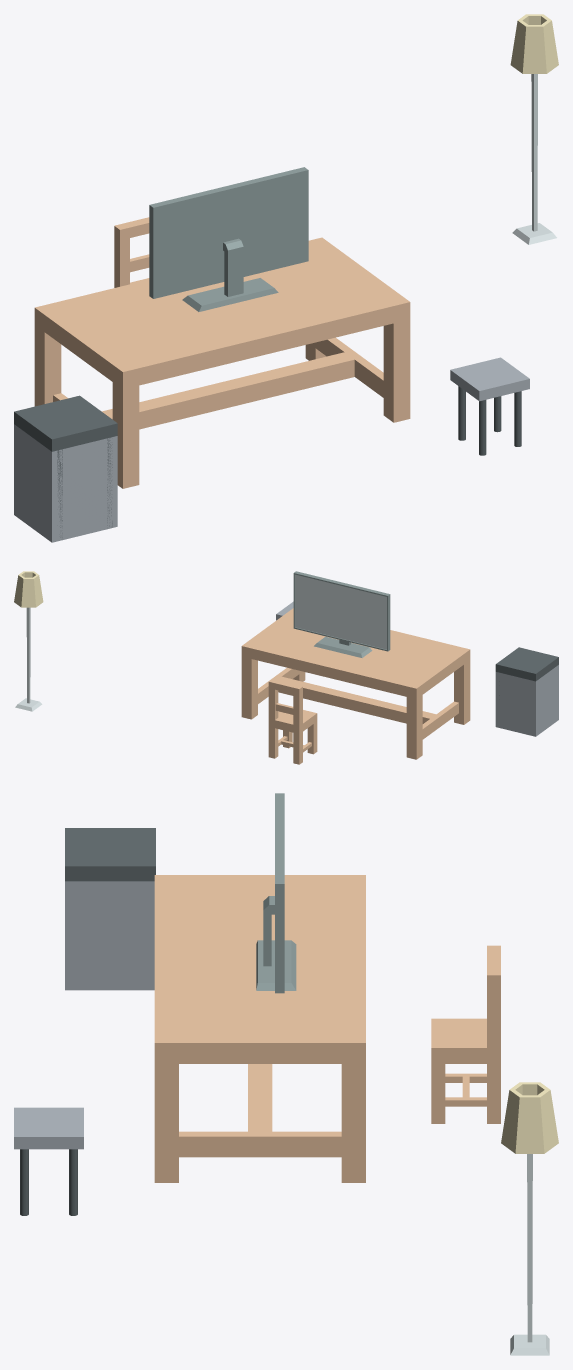
3 renders of one model, top to bottom at view 1: azimuth 30°, elevation 25°; view 2: azimuth 150°, elevation 25°; view 3: azimuth 270°, elevation 25°, orthographic. The views are drawn at different scales.
Parts seen in each view (by area): view 1: table_green__table(Clone), tv_black__televisionModern(Clone), bin_gray__bin_gray shell, lamp_white__lampRoundFloor(Clone), bin_gray__bin_gray lid, stool_purple__stool_purple seat, chair_cyan__chair(Clone); view 2: table_green__table(Clone), tv_black__televisionModern(Clone), bin_gray__bin_gray shell, chair_cyan__chair(Clone), lamp_white__lampRoundFloor(Clone), bin_gray__bin_gray lid; view 3: table_green__table(Clone), bin_gray__bin_gray shell, chair_cyan__chair(Clone), lamp_white__lampRoundFloor(Clone), bin_gray__bin_gray lid, tv_black__televisionModern(Clone), stool_purple__stool_purple seat.
Part boxes in pixels (box(x1,y1,x2,y2)): table_green__table(Clone): box(34, 237, 410, 488); tv_black__televisionModern(Clone): box(149, 167, 308, 311); bin_gray__bin_gray shell: box(14, 424, 117, 542); lamp_white__lampRoundFloor(Clone): box(510, 14, 558, 244); bin_gray__bin_gray lid: box(14, 395, 117, 451); stool_purple__stool_purple seat: box(450, 357, 529, 401); chair_cyan__chair(Clone): box(114, 217, 149, 287); table_green__table(Clone): box(241, 608, 470, 759); tv_black__televisionModern(Clone): box(293, 571, 390, 657); bin_gray__bin_gray shell: box(495, 665, 558, 736); chair_cyan__chair(Clone): box(268, 679, 317, 764); lamp_white__lampRoundFloor(Clone): box(14, 571, 43, 711); bin_gray__bin_gray lid: box(495, 647, 558, 681); table_green__table(Clone): box(154, 875, 365, 1182); bin_gray__bin_gray shell: box(65, 881, 154, 990); chair_cyan__chair(Clone): box(431, 945, 500, 1123); lamp_white__lampRoundFloor(Clone): box(501, 1082, 558, 1355); bin_gray__bin_gray lid: box(65, 828, 155, 881); tv_black__televisionModern(Clone): box(256, 793, 296, 993); stool_purple__stool_purple seat: box(14, 1107, 83, 1149).
Bounding box in the file's own units: 4.27 × 1.32 × 2.42.
